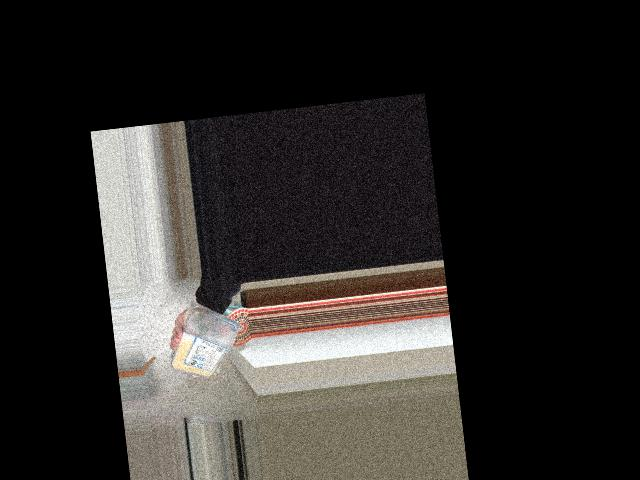cheese: (175, 307, 243, 382)
